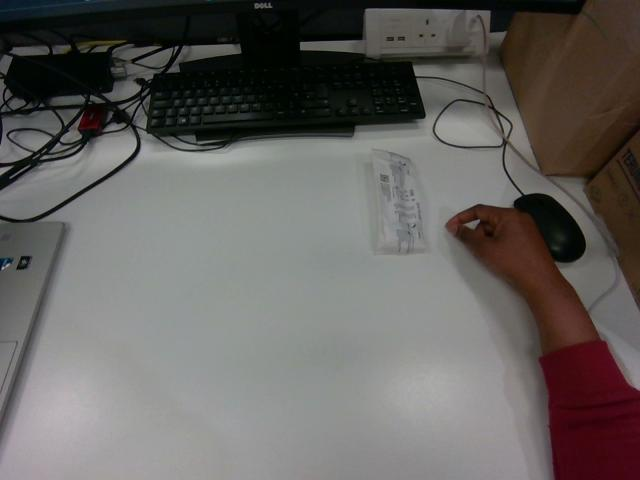syringe: (372, 149, 425, 253)
